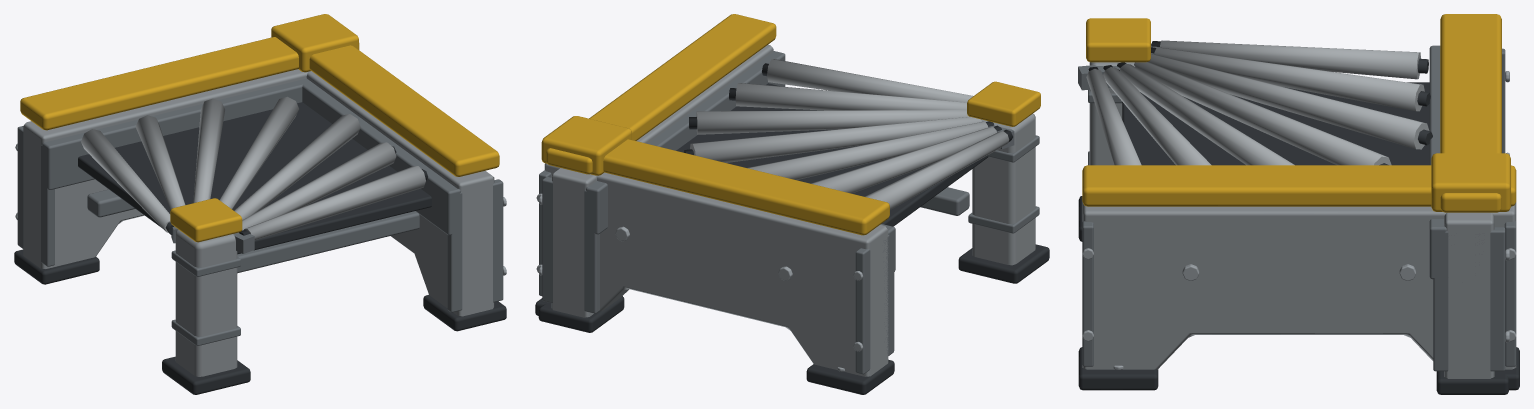
The model's file is fw_bturn.glb.
3 renders of one model, left to right at view 1: azimuth 30°, elevation 25°; view 2: azimuth 150°, elevation 25°; view 3: azimuth 270°, elevation 25°, orthographic. The views are drawn at different scales.
Visible parts, largest first — view 1: block, block.002, prism, block.008, prism.001, block.013, block.001, block.007, cyl.012, block.019, cyl.010, cyl.008 (+14 smaller); view 2: prism, block.002, block.008, block.013, prism.001, cyl.006, cyl.008, cyl.010, cyl.004, block, cyl.012, block.007 (+13 smaller); view 3: prism.001, block.008, block.002, block, prism, cyl.004, cyl.006, cyl.002, cyl.001, block.005, cyl.008, block.018 (+10 smaller).
Part boxes in pixels (x1,y1,x2,y2): block: (78, 102, 431, 254); block.002: (20, 37, 359, 130); prism: (23, 69, 307, 268); block.008: (309, 45, 499, 176); prism.001: (306, 71, 494, 316); block.013: (175, 229, 237, 376); block.001: (42, 78, 310, 189); block.007: (299, 79, 460, 235); cyl.012: (244, 166, 425, 240); block.019: (237, 211, 419, 273); cyl.010: (242, 142, 396, 230); cyl.008: (234, 114, 360, 219); prism: (544, 163, 888, 376); block.002: (603, 139, 889, 235); block.008: (546, 14, 776, 174); block.013: (972, 113, 1035, 265); prism.001: (551, 44, 773, 317); cyl.006: (690, 116, 981, 162); cyl.008: (696, 110, 968, 134); cyl.010: (735, 83, 966, 110); cyl.004: (747, 121, 987, 180); block: (676, 83, 988, 226); cyl.012: (767, 59, 973, 102); block.007: (586, 51, 785, 234); prism.001: (1082, 202, 1516, 369); block.008: (1082, 165, 1516, 206); block.002: (1440, 14, 1501, 212); block: (1122, 82, 1429, 165); prism: (1444, 212, 1494, 378); cyl.004: (1148, 54, 1429, 149); cyl.006: (1134, 62, 1391, 165); cyl.002: (1154, 47, 1424, 111); cyl.001: (1160, 40, 1420, 79); block.005: (1433, 227, 1505, 371); cyl.008: (1120, 63, 1294, 165); block.018: (1431, 153, 1510, 211).
Bounding box in the file's own units: 1.22 × 0.635 × 1.22.
